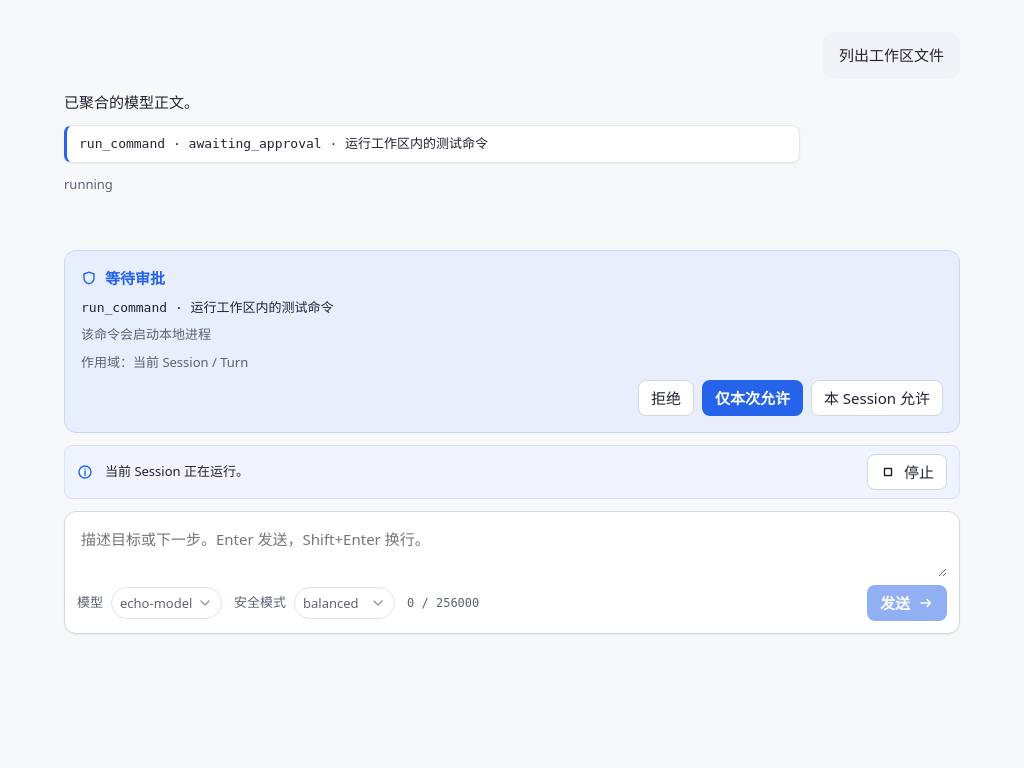
Scenario: Web console isolation › still applies an injected Fake adapter for approval without using App wiring
The image size is (1024, 768).
Click the button "仅本次允许": (752, 398) [702,380,803,416]
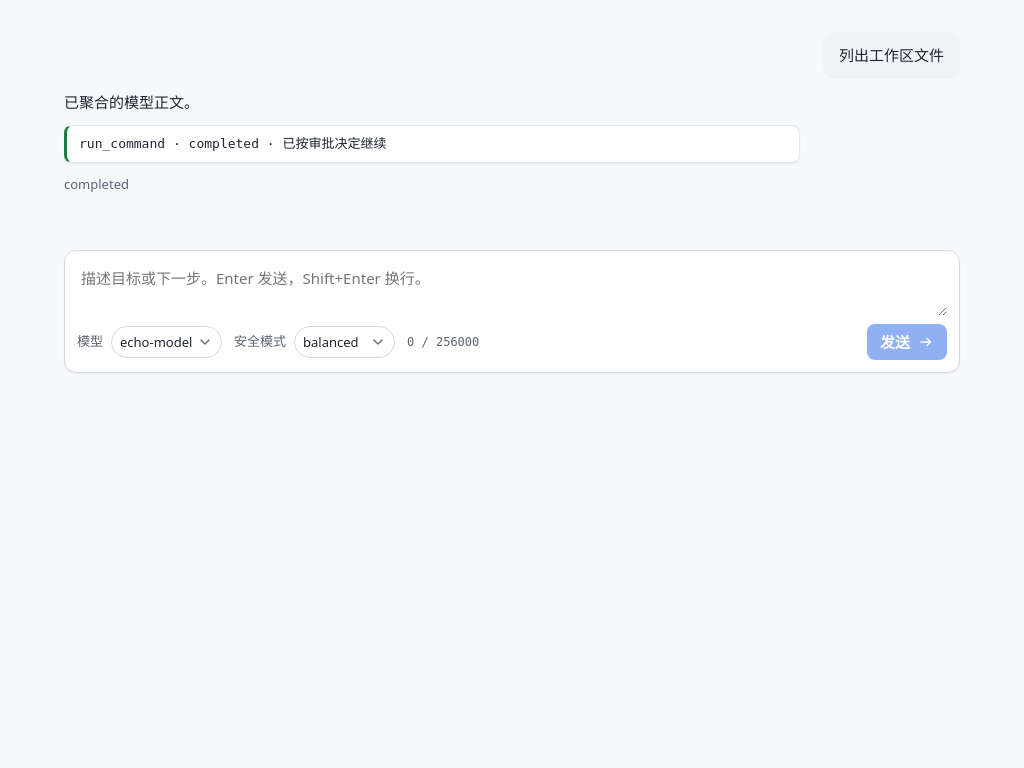
Result: the text "run_command · completed · 已按审批决定继续" is shown at [64,125,800,162]
